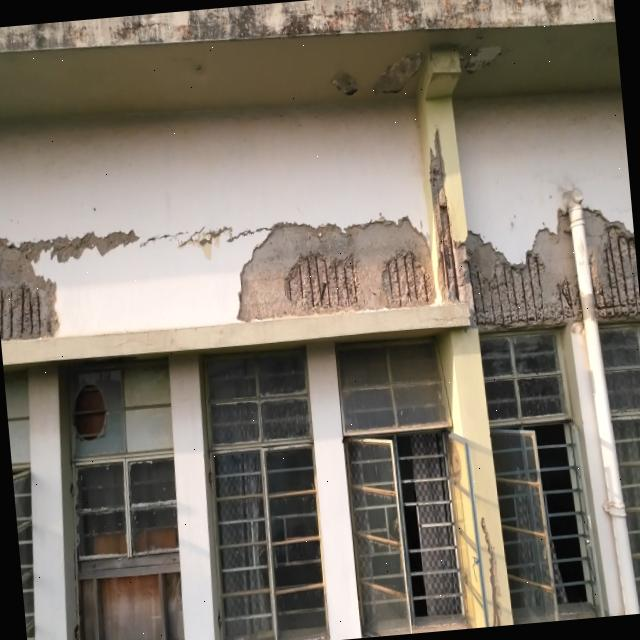Incomplete Plaster Work: (238, 217, 433, 321)
Spalling: (466, 216, 581, 330), (584, 210, 640, 320), (0, 241, 58, 339), (295, 253, 357, 311), (382, 251, 429, 306), (287, 270, 296, 300)
pollution -moisture induced blackening: (0, 0, 615, 52)
